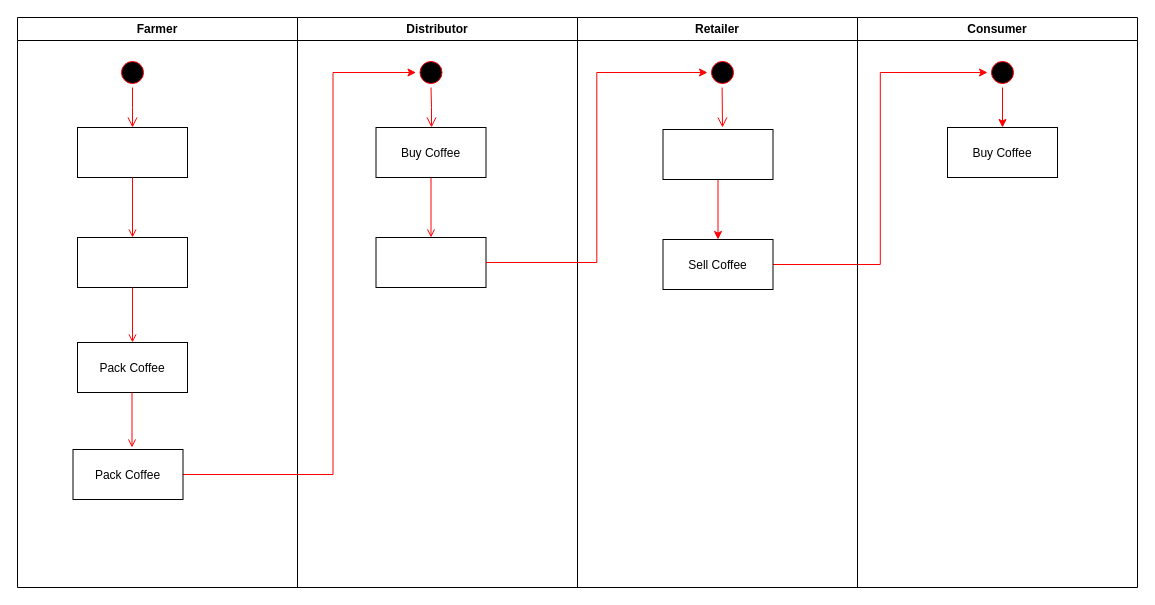
This 1155x605 diagram has some shape labels left out. The shapes that lost their labels are listed below. From the top down, each one's centre as x and y in pixels, then its label:
At point 132,152: "Harvest Coffee".
At point 717,154: "Receive Coffee".
At point 132,262: "Process Coffee".
At point 430,262: "Ship Coffee".
